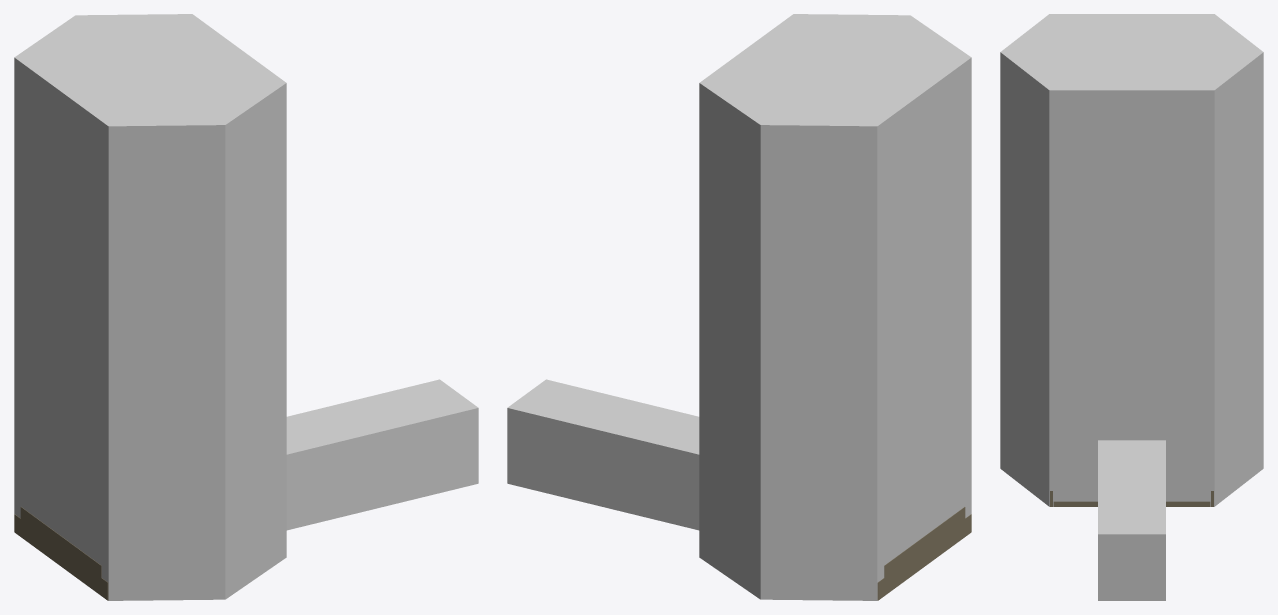
The model's file is Gardenint.fbx.
3 renders of one model, left to right at view 1: azimuth 30°, elevation 25°; view 2: azimuth 150°, elevation 25°; view 3: azimuth 270°, elevation 25°, orthographic. The views are drawn at different scales.
Parts seen in each view (by area): view 1: inside_palace, deck; view 2: inside_palace, deck; view 3: inside_palace, deck.
Boxes of the visible parts, x1,y1,x2,y2 form: inside_palace: [14, 14, 478, 600]; deck: [14, 507, 108, 600]; inside_palace: [507, 14, 971, 600]; deck: [877, 507, 971, 600]; inside_palace: [1000, 14, 1263, 600]; deck: [1050, 491, 1213, 506].
Size of the model in its own units: 138 by 157 by 90.
